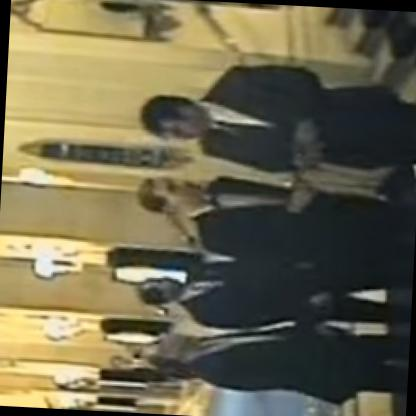Human Body: (134, 52, 415, 183), (131, 161, 415, 277), (136, 321, 408, 408), (132, 258, 411, 342)
